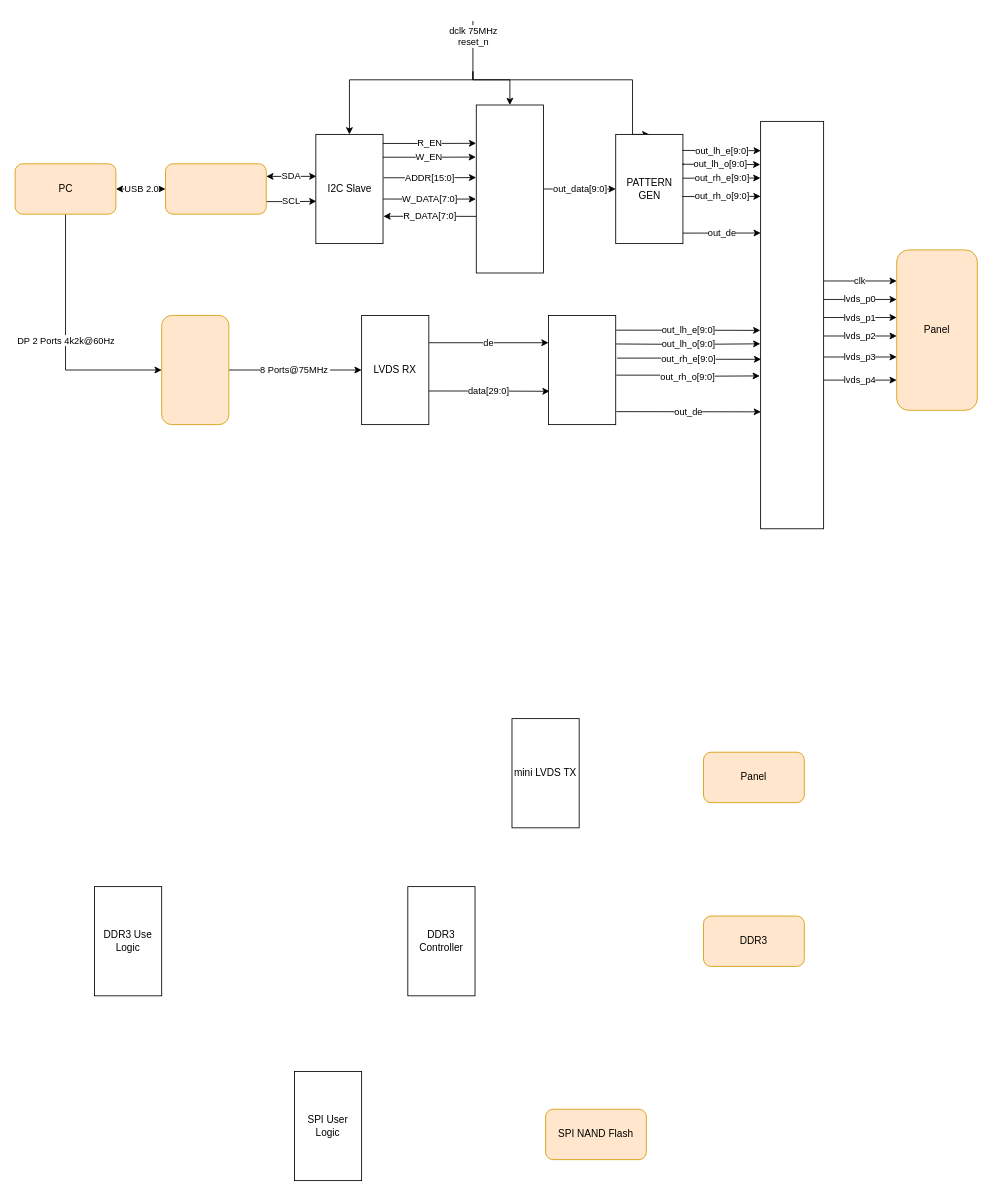
Image size: 992x1195. Some labels were removed from this diagram. The shapes that lost their labels are listed below. From the top down, each one's centre as x and y in pixels, then its label:
At (x=215, y=188): "FT232H".
At (x=509, y=188): "Register File".
At (x=792, y=325): "LVDS TX".
At (x=195, y=370): "DP TO LVDS".
At (x=582, y=370): "Data Mapping".
